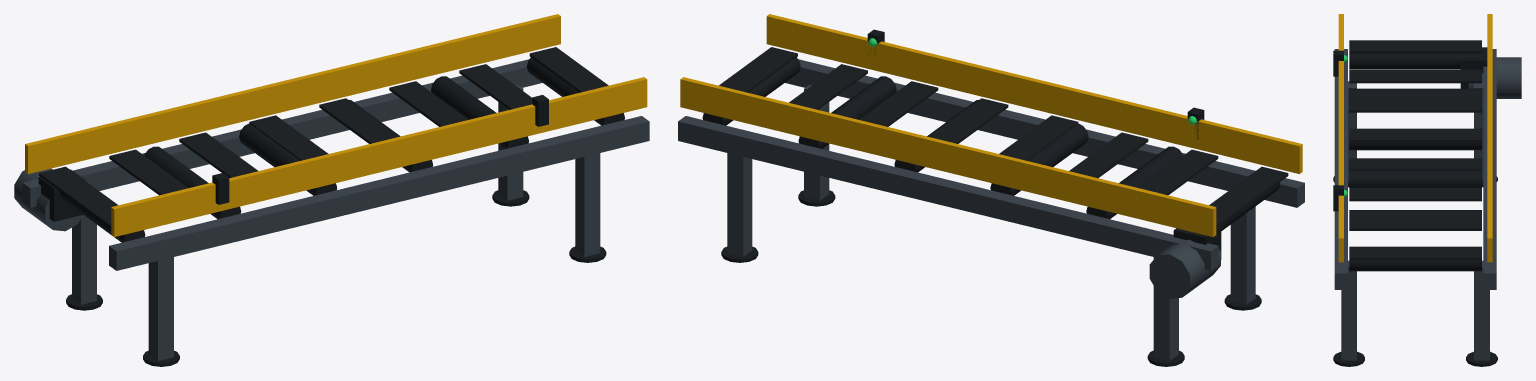
3 views of the same model, side by side, from view 1: azimuth 30°, elevation 25°; view 2: azimuth 150°, elevation 25°; view 3: azimuth 270°, elevation 25° (orthographic). The views are drawn at different scales.
Parts seen in each view (by area): view 1: guard:rail:-0.28, guard:rail:0.28, frame:rail:0.28, frame:rail:-0.28, leg:0.8:0.25, leg:-0.8:0.25, leg:-0.8:-0.25, belt:segment:0, belt:segment:4, belt:segment:1, belt:segment:5, belt:segment:7 (+11 smaller); view 2: guard:rail:-0.28, guard:rail:0.28, frame:rail:-0.28, frame:rail:0.28, leg:0.8:-0.25, motor:body, leg:-0.8:0.25, belt:segment:0, leg:-0.8:-0.25, belt:segment:2, belt:segment:1, belt:segment:4 (+10 smaller); view 3: frame:rail:-0.28, roller:3, frame:rail:0.28, belt:segment:1, belt:segment:3, belt:segment:5, belt:segment:7, roller:0, belt:segment:0, belt:segment:2, belt:segment:6, belt:segment:4 (+16 smaller).
Boxes of the visible parts, box(x1,y1,x2,y2) form: guard:rail:-0.28: box(25, 14, 560, 173); guard:rail:0.28: box(111, 77, 647, 237); frame:rail:0.28: box(109, 116, 649, 270); frame:rail:-0.28: box(22, 59, 542, 207); leg:0.8:0.25: box(575, 153, 600, 256); leg:-0.8:0.25: box(148, 257, 173, 360); leg:-0.8:-0.25: box(72, 215, 96, 304); belt:segment:0: box(39, 166, 117, 228); belt:segment:4: box(319, 98, 398, 143); belt:segment:1: box(109, 149, 188, 195); belt:segment:5: box(389, 81, 468, 126); belt:segment:7: box(529, 47, 608, 92); guard:rail:-0.28: box(680, 77, 1216, 237); guard:rail:0.28: box(766, 14, 1302, 173); frame:rail:-0.28: box(678, 116, 1218, 270); frame:rail:0.28: box(785, 59, 1304, 207); leg:0.8:-0.25: box(727, 153, 752, 256); motor:body: box(1149, 239, 1220, 298); leg:-0.8:0.25: box(1230, 206, 1255, 304); belt:segment:0: box(1209, 166, 1288, 228); leg:-0.8:-0.25: box(1153, 257, 1178, 360); belt:segment:2: box(1069, 132, 1148, 178); belt:segment:1: box(1139, 149, 1218, 195); belt:segment:4: box(929, 98, 1008, 143); frame:rail:-0.28: box(1483, 49, 1496, 289); roller:3: box(1349, 170, 1481, 187); frame:rail:0.28: box(1334, 49, 1347, 289); belt:segment:1: box(1349, 69, 1481, 83); belt:segment:3: box(1349, 128, 1481, 142); belt:segment:5: box(1349, 187, 1481, 201); belt:segment:7: box(1349, 246, 1481, 260); roller:0: box(1349, 54, 1481, 69); belt:segment:0: box(1349, 40, 1481, 53); belt:segment:2: box(1349, 99, 1481, 112); belt:segment:6: box(1349, 217, 1481, 230); belt:segment:4: box(1349, 158, 1481, 170).
Bounding box in the file's own units: 2 × 0.625 × 0.71.
